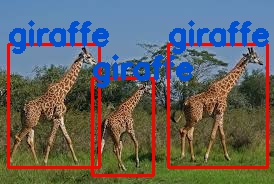giraffe: (168, 44, 267, 167), (7, 44, 98, 167), (91, 77, 152, 175)
